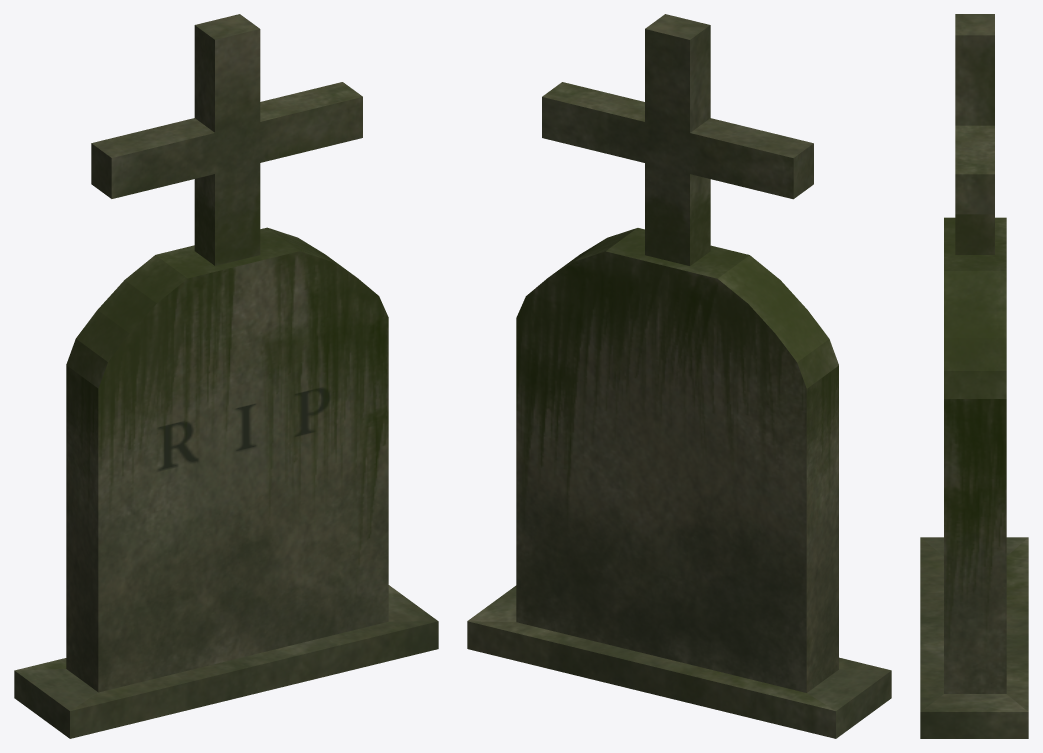
The model's file is grave_03.fbx.
The picture shows the model from 3 angles, left to right: view 1: azimuth 30°, elevation 25°; view 2: azimuth 150°, elevation 25°; view 3: azimuth 270°, elevation 25°; orthographic projection. The views are drawn at different scales.
Visible parts, largest first — view 1: grave 3; view 2: grave 3; view 3: grave 3.
Part boxes in pixels (left/top/right/bottom): grave 3: left=14, top=14, right=438, bottom=738; grave 3: left=467, top=14, right=891, bottom=738; grave 3: left=920, top=14, right=1028, bottom=738.
Size of the model in its own units: 0.8991 by 1.51 by 0.2353.
